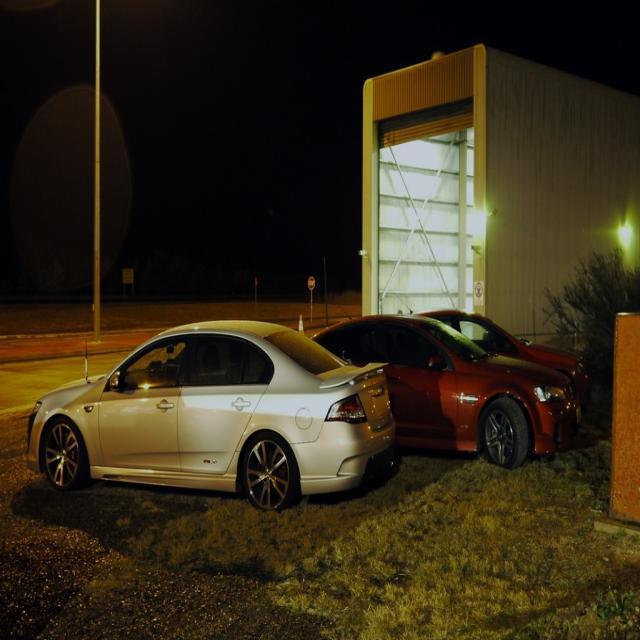car: (32, 319, 425, 517)
